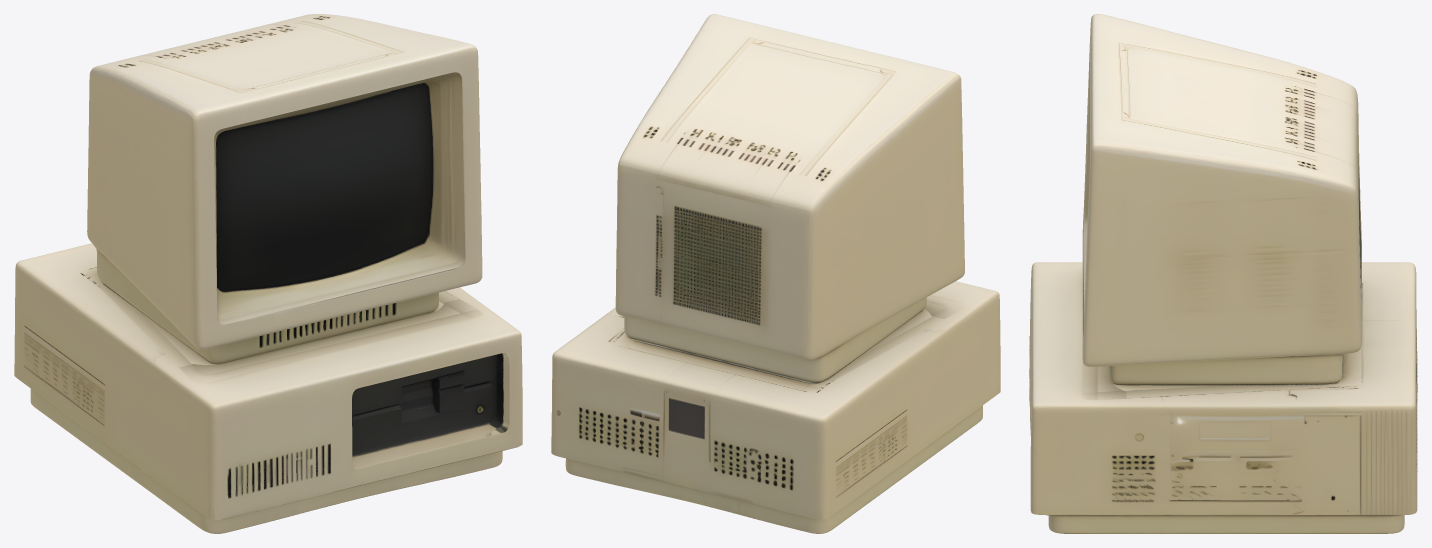
3 views of the same model, side by side, from view 1: azimuth 30°, elevation 25°; view 2: azimuth 150°, elevation 25°; view 3: azimuth 270°, elevation 25° (orthographic). The views are drawn at different scales.
Visible parts, largest first — view 1: model; view 2: model; view 3: model.
Part boxes in pixels (bbox=[...]): model: bbox=[14, 14, 522, 533]; model: bbox=[551, 14, 1000, 533]; model: bbox=[1029, 14, 1417, 533].
Bounding box in the file's own units: 1.53 × 1.9 × 1.72.
Materials: 1 (1 with a texture image).
